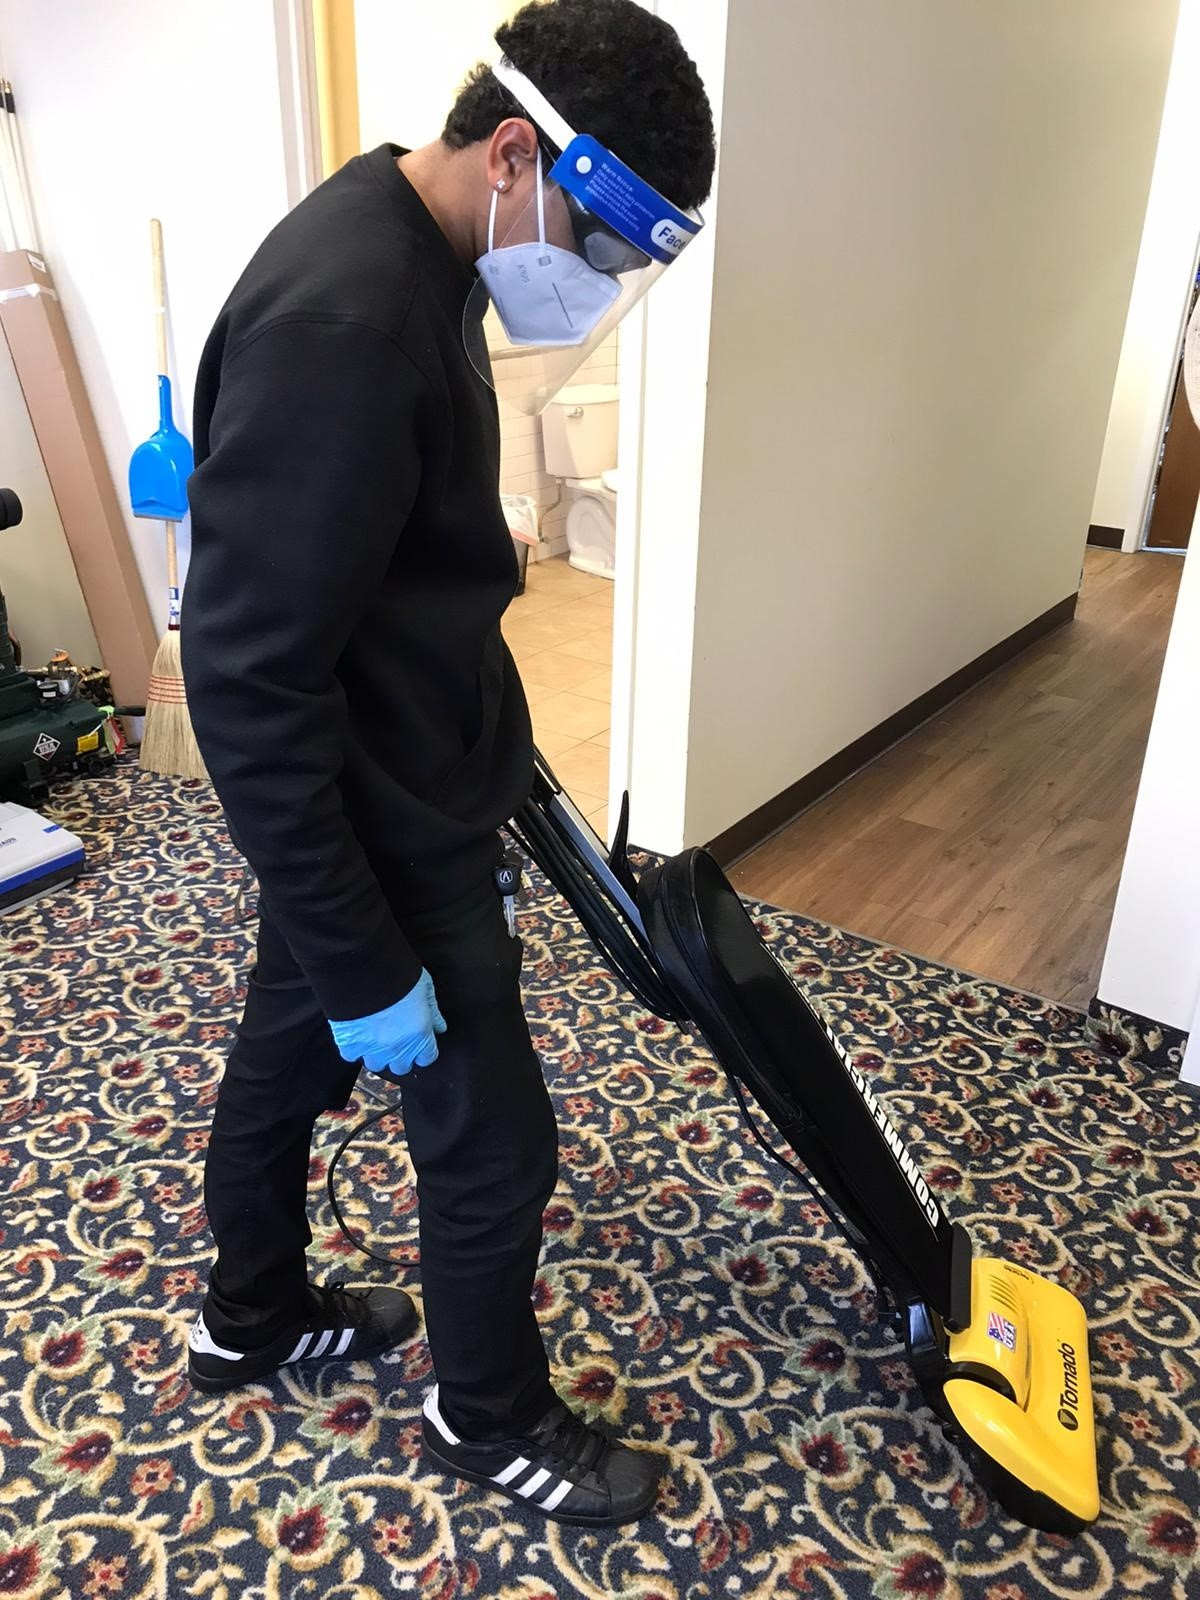face_with_mask: (441, 6, 719, 361)
